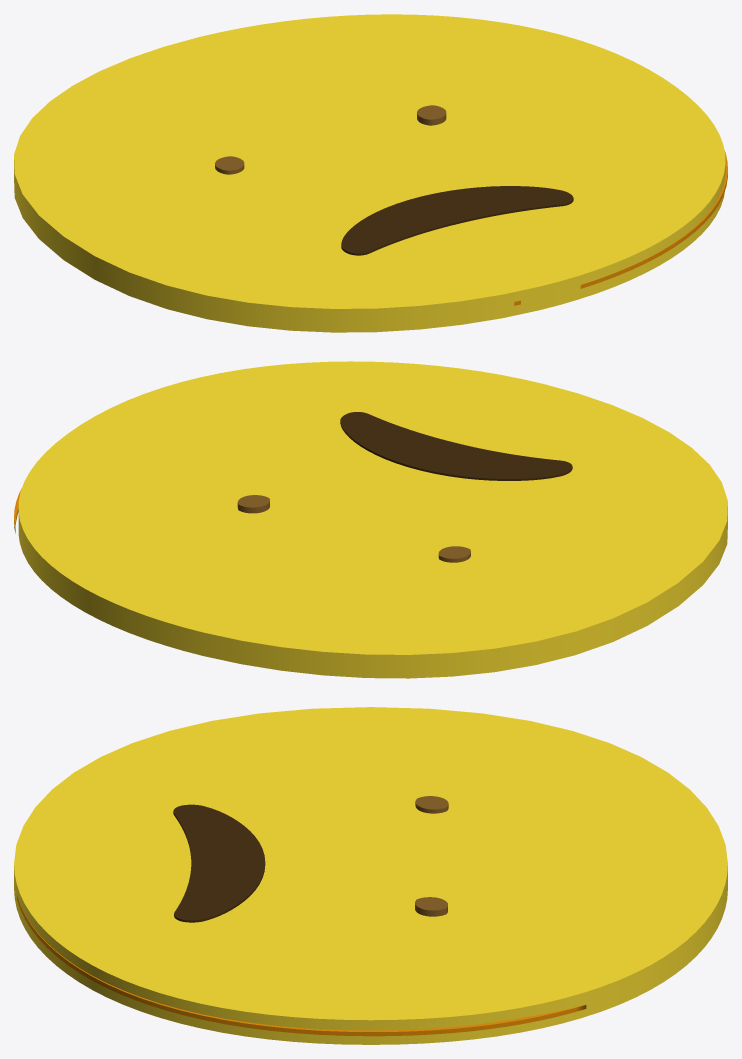
File: emoji_u1f622.glb
3 renders of one model, top to bottom at view 1: azimuth 30°, elevation 25°; view 2: azimuth 150°, elevation 25°; view 3: azimuth 270°, elevation 25°, orthographic. The views are drawn at different scales.
Parts seen in each view (by area): view 1: emoji_u1f622; view 2: emoji_u1f622; view 3: emoji_u1f622.
Part boxes in pixels (box(x1,y1,x2,y2)): emoji_u1f622: box(14, 14, 727, 332); emoji_u1f622: box(14, 361, 727, 678); emoji_u1f622: box(14, 707, 727, 1044).
Bounding box in the file's own units: 0.0327 × 0.0018 × 0.0314.
